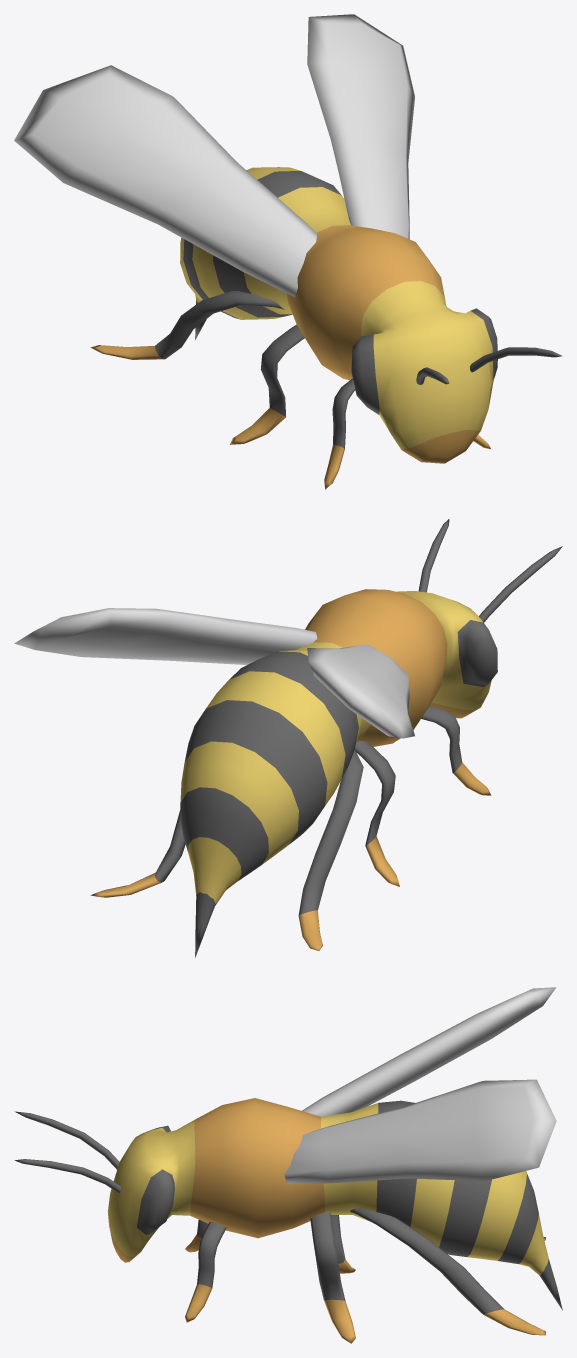
Rendered from Bee.fbx.
The picture shows the model from 3 angles, top to bottom: view 1: azimuth 30°, elevation 25°; view 2: azimuth 150°, elevation 25°; view 3: azimuth 270°, elevation 25°; orthographic projection. The views are drawn at different scales.
Parts seen in each view (by area): view 1: Bee; view 2: Bee; view 3: Bee.
Part boxes in pixels (bbox=[...]): Bee: bbox=[14, 14, 562, 489]; Bee: bbox=[14, 519, 562, 957]; Bee: bbox=[14, 987, 562, 1343].
Size of the model in its own units: 31.81 by 24.25 by 44.04.
